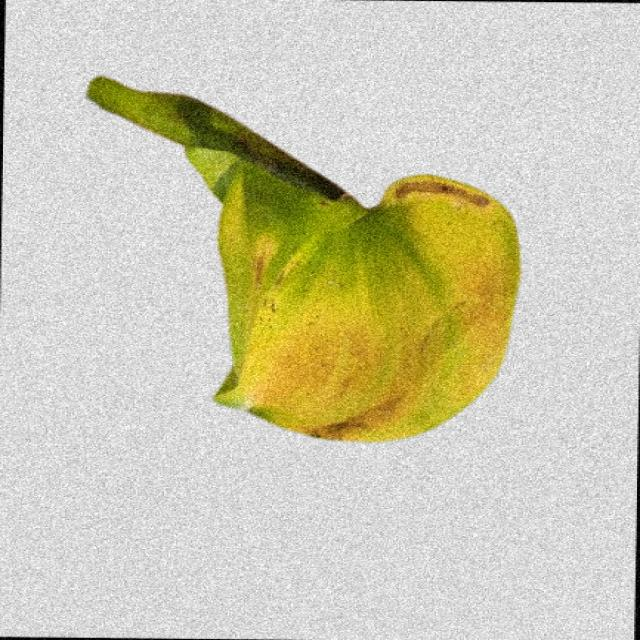daun berpenyakit kuning: (88, 78, 520, 441)
